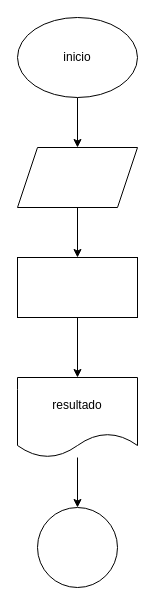
The diagram is 155 pixels wide and 605 high, and some of its shapes have lost their labels. Here are the shapes that lost their labels. From the top down, the box of each, then its label:
(16, 146, 138, 208): cotacao; valor
(16, 256, 138, 318): resultado= (valorreais\cotacao)
